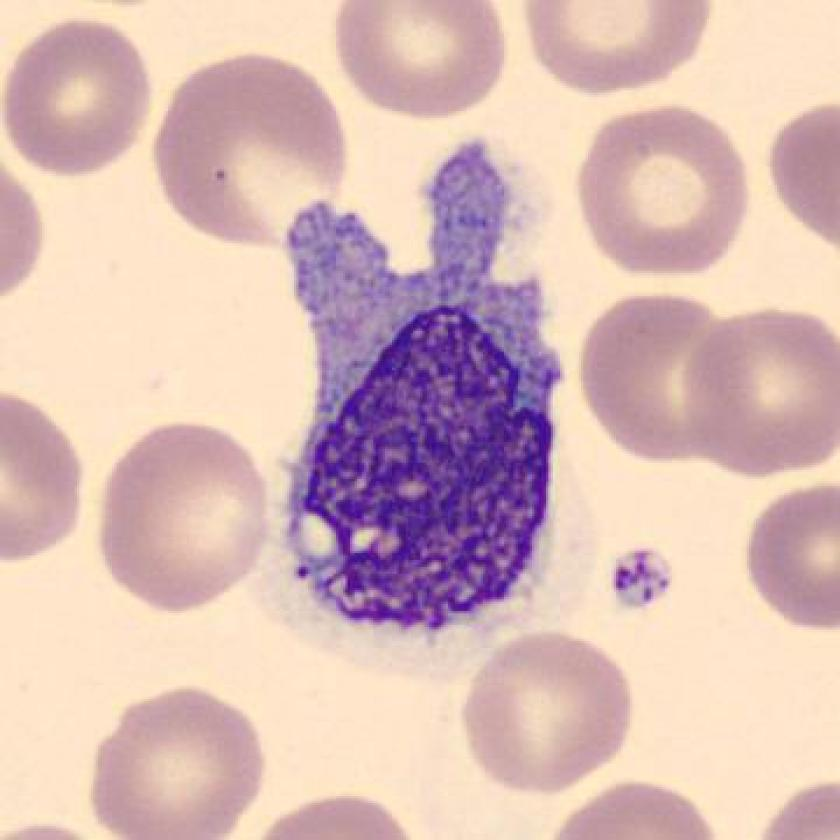monocyte: (248, 121, 615, 677)
